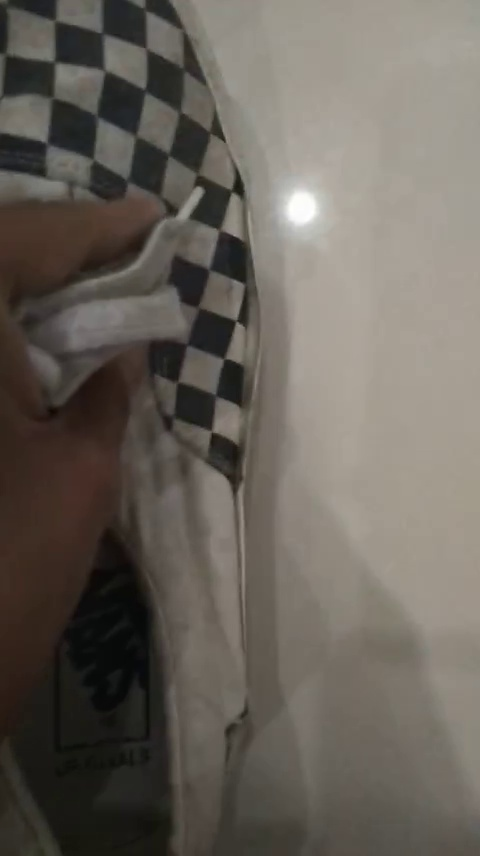bonding: (242, 191, 272, 488)
